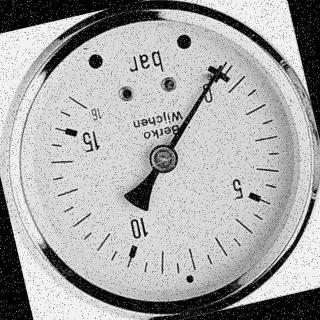gauge: (0, 0, 320, 320), (145, 141, 181, 177), (64, 88, 100, 123), (202, 61, 228, 93), (208, 57, 230, 78)
